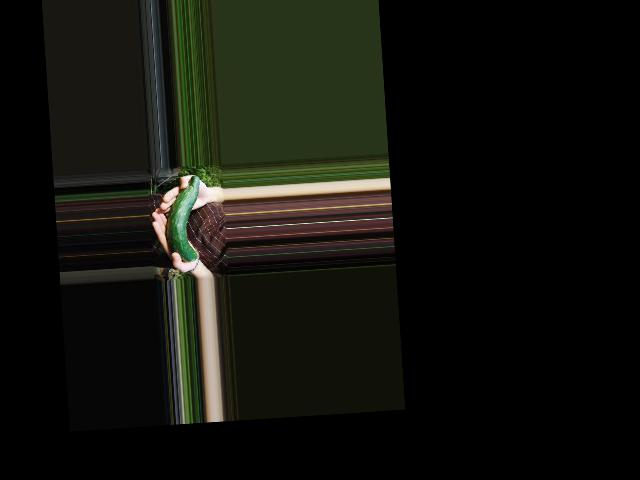cucumber: (163, 175, 204, 264)
